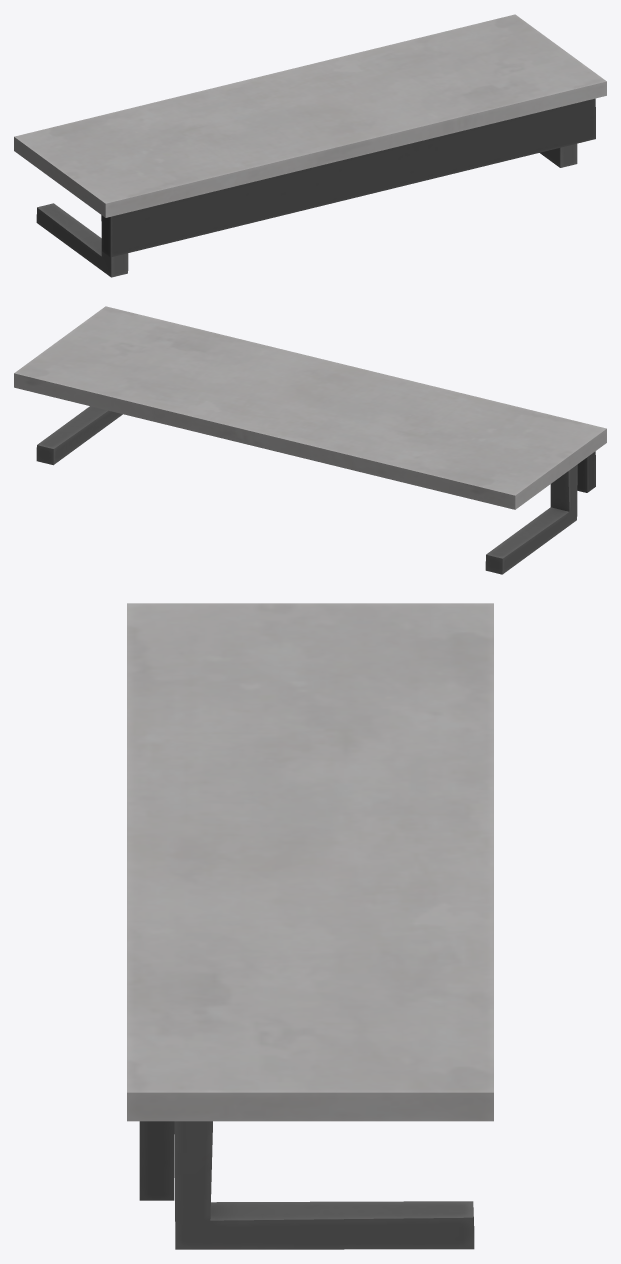
Rendered from Pfb_Table__11.fbx.
3 renders of one model, top to bottom at view 1: azimuth 30°, elevation 25°; view 2: azimuth 150°, elevation 25°; view 3: azimuth 270°, elevation 25°, orthographic. The views are drawn at different scales.
Parts seen in each view (by area): view 1: Mat_Table_01; view 2: Mat_Table_01; view 3: Mat_Table_01.
Part boxes in pixels (left/top/right/bottom): Mat_Table_01: left=14, top=14, right=606, bottom=277; Mat_Table_01: left=14, top=306, right=606, bottom=574; Mat_Table_01: left=127, top=603, right=493, bottom=1249.
Bounding box in the file's own units: 3.91 × 0.649 × 1.24.
Materials: 1 (1 with a texture image).
